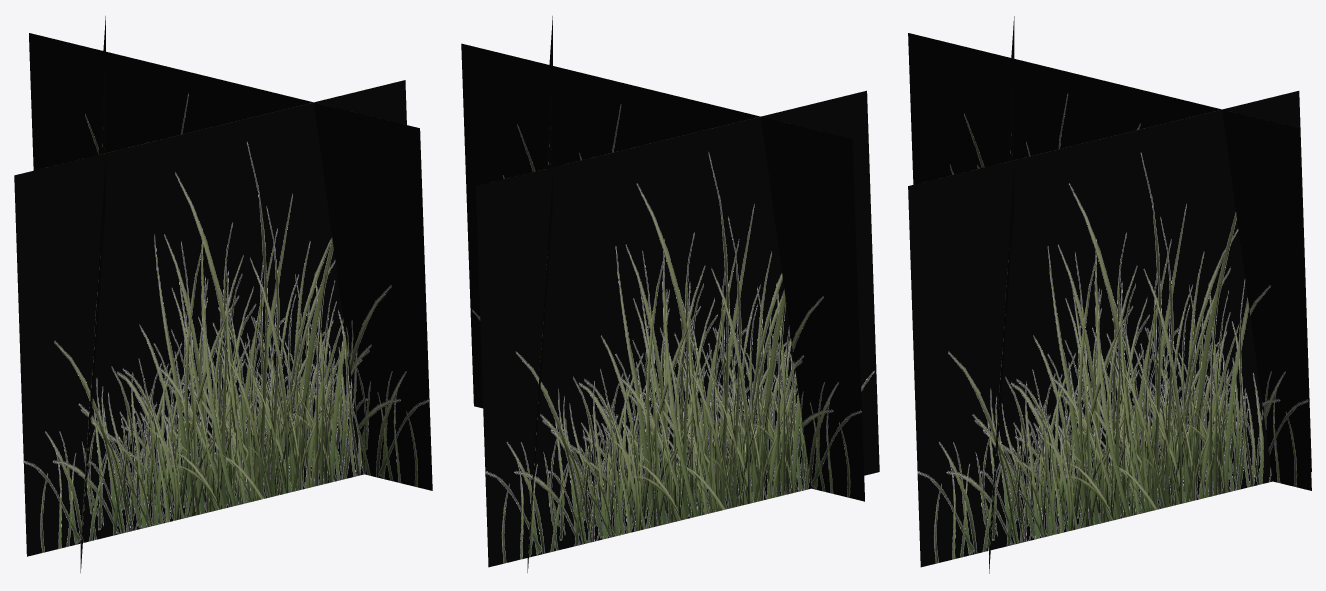
3 renders of one model, left to right at view 1: azimuth 30°, elevation 25°; view 2: azimuth 150°, elevation 25°; view 3: azimuth 270°, elevation 25°, orthographic.
Visible parts, largest first — view 1: Grass, Grass.001, Grass.002; view 2: Grass.002, Grass, Grass.001; view 3: Grass.001, Grass.002, Grass.
Boxes of the visible parts, <box> form: Grass: <box>14,80,406,556</box>; Grass.001: <box>29,33,432,490</box>; Grass.002: <box>80,16,105,572</box>; Grass.002: <box>476,90,879,567</box>; Grass: <box>461,43,864,501</box>; Grass.001: <box>527,16,552,572</box>; Grass.001: <box>908,91,1311,567</box>; Grass.002: <box>908,33,1311,490</box>; Grass: <box>989,16,1014,573</box>.
Size of the model in its own units: 200 by 182 by 179.
